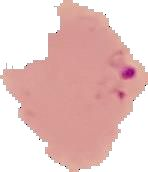parasitized: (89, 44, 144, 113)
